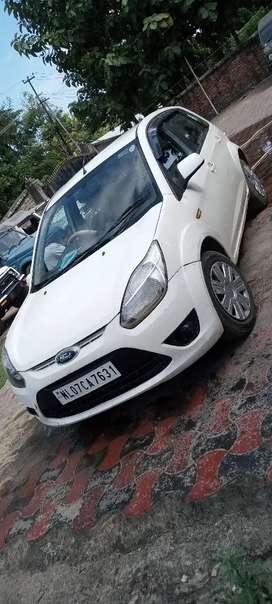NL07CA7631: (51, 360, 122, 406)
